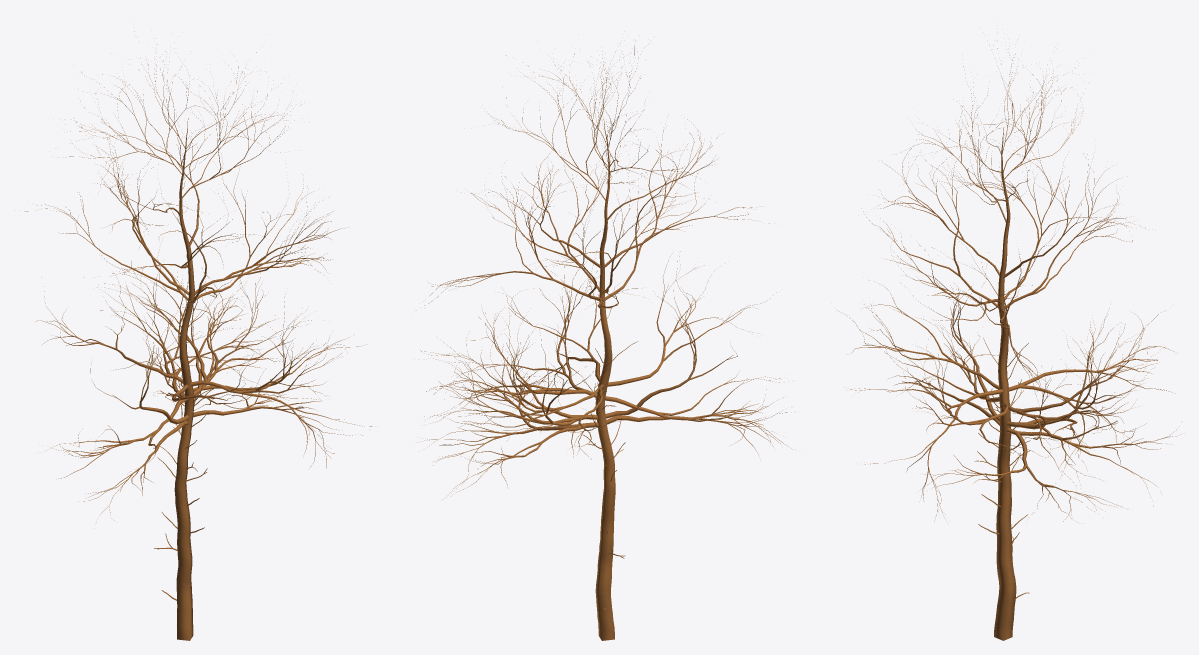
The model's file is TreeModel.glb.
3 views of the same model, side by side, from view 1: azimuth 30°, elevation 25°; view 2: azimuth 150°, elevation 25°; view 3: azimuth 270°, elevation 25° (orthographic).
Parts seen in each view (by area): view 1: Tree; view 2: Tree; view 3: Tree.
Part boxes in pixels (x1,y1,x2,y2): Tree: [24, 31, 372, 640]; Tree: [416, 46, 791, 640]; Tree: [837, 41, 1176, 640].
Bounding box in the file's own units: 81.65 × 142 × 75.
